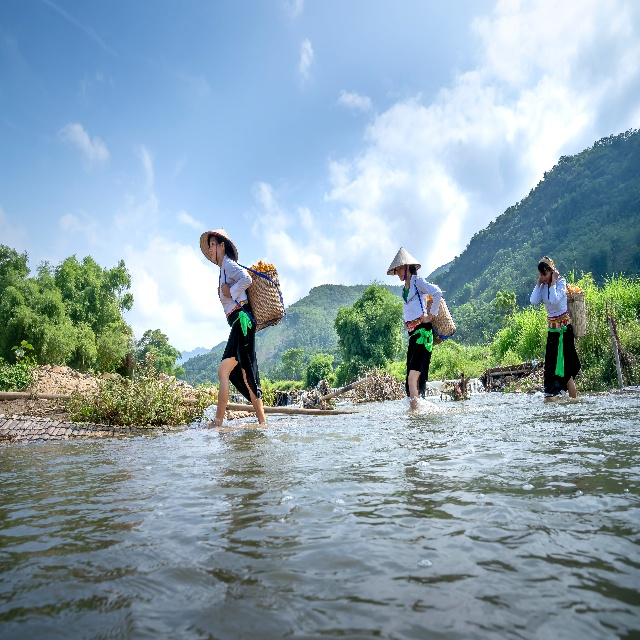Sin_guantes: (420, 311, 432, 324), (221, 282, 231, 297), (552, 269, 558, 283), (217, 287, 220, 298)
